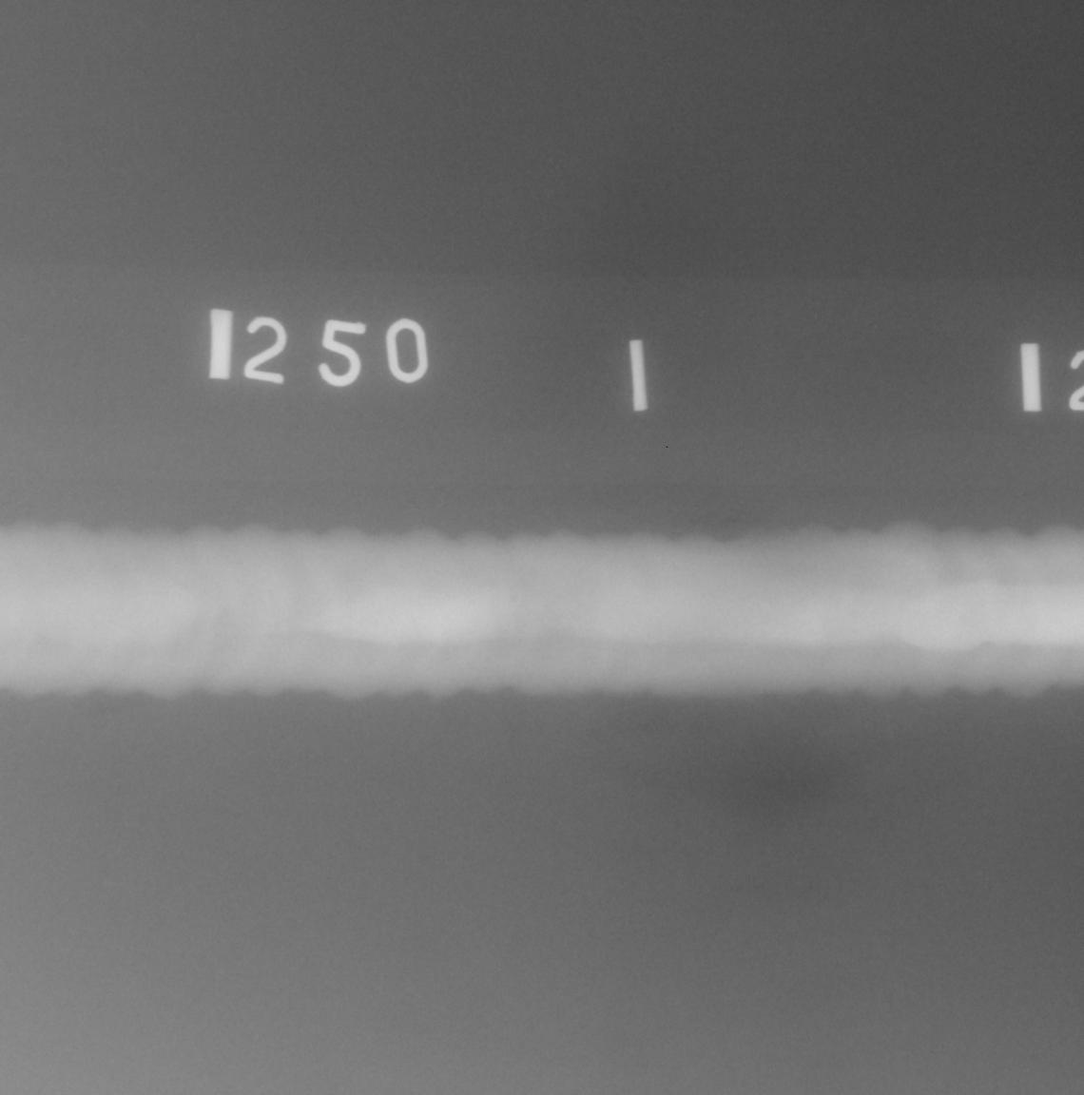Pore/Porosity: (511, 596, 514, 600)
